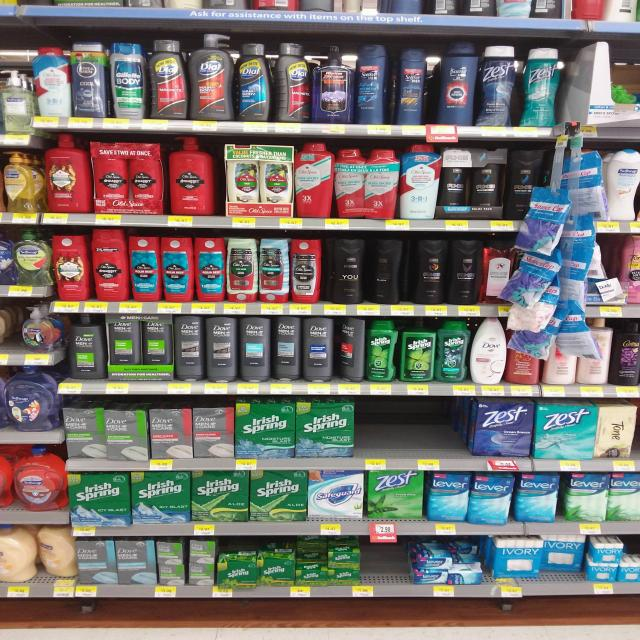unorganised: (470, 473, 512, 525), (371, 237, 405, 301), (336, 314, 367, 383), (544, 535, 584, 573), (588, 536, 623, 563), (298, 535, 325, 564), (450, 543, 480, 557)
